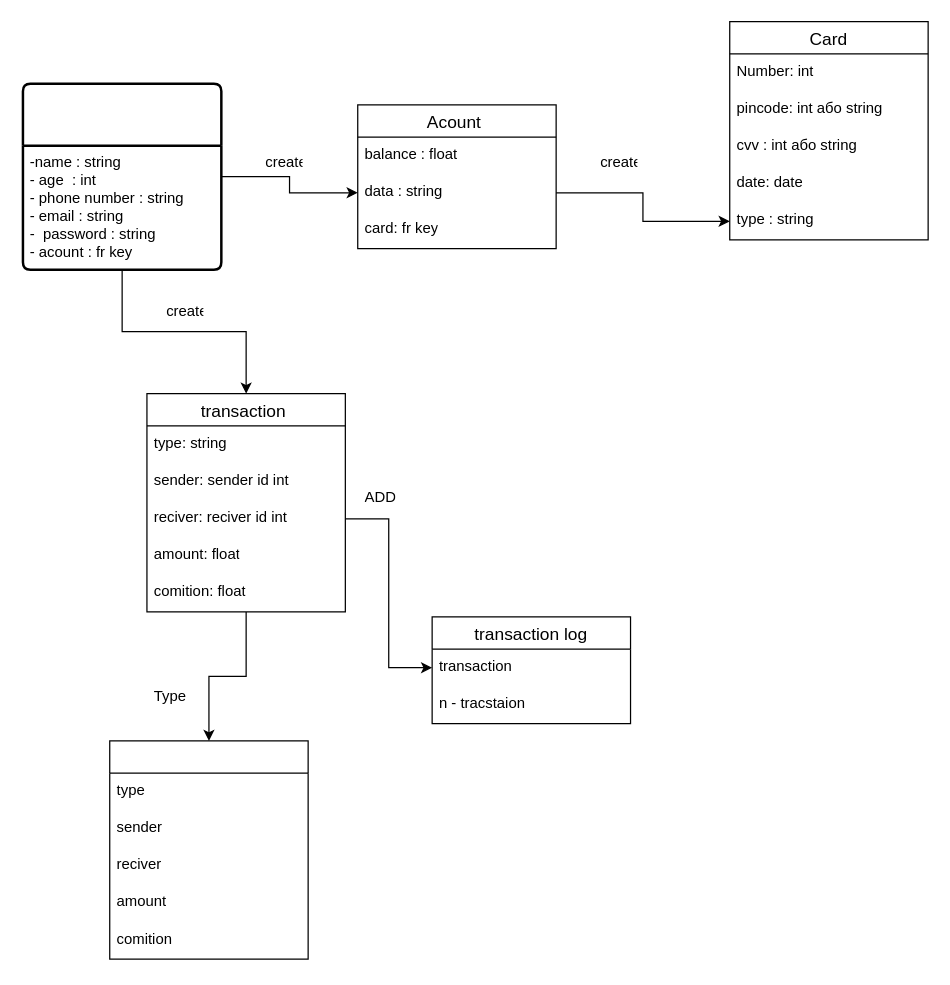
This 950x985 diagram has some shape labels left out. Each missing label, with the box of its shape:
Customer: (21, 82, 222, 270)
квитнанція: (108, 740, 308, 959)
